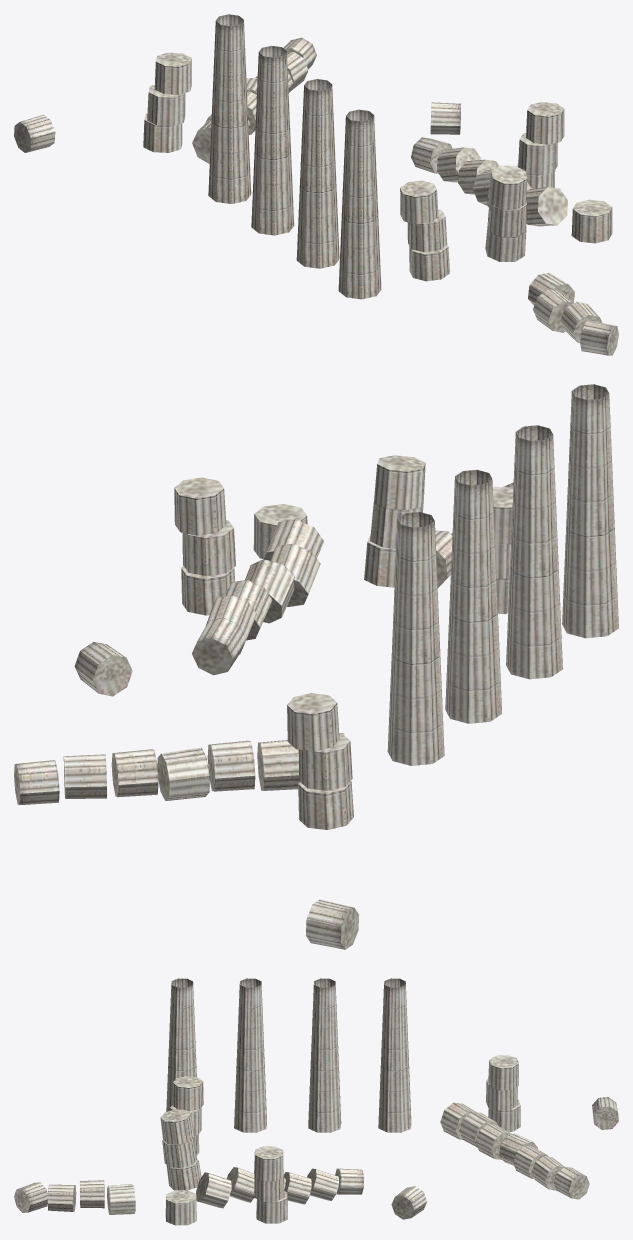
File: temple_unfinished_columns.dae
The picture shows the model from 3 angles, top to bottom: view 1: azimuth 30°, elevation 25°; view 2: azimuth 150°, elevation 25°; view 3: azimuth 270°, elevation 25°; orthographic projection. The views are drawn at different scales.
Visible parts, largest first — view 1: Cylinder_03-Pivot; view 2: Cylinder_03-Pivot; view 3: Cylinder_03-Pivot.
Part boxes in pixels (<box>): Cylinder_03-Pivot: <box>14,14,618,355</box>; Cylinder_03-Pivot: <box>14,384,618,949</box>; Cylinder_03-Pivot: <box>14,978,618,1225</box>.
Bounding box in the file's own units: 18.13 × 34.83 × 10.7.
